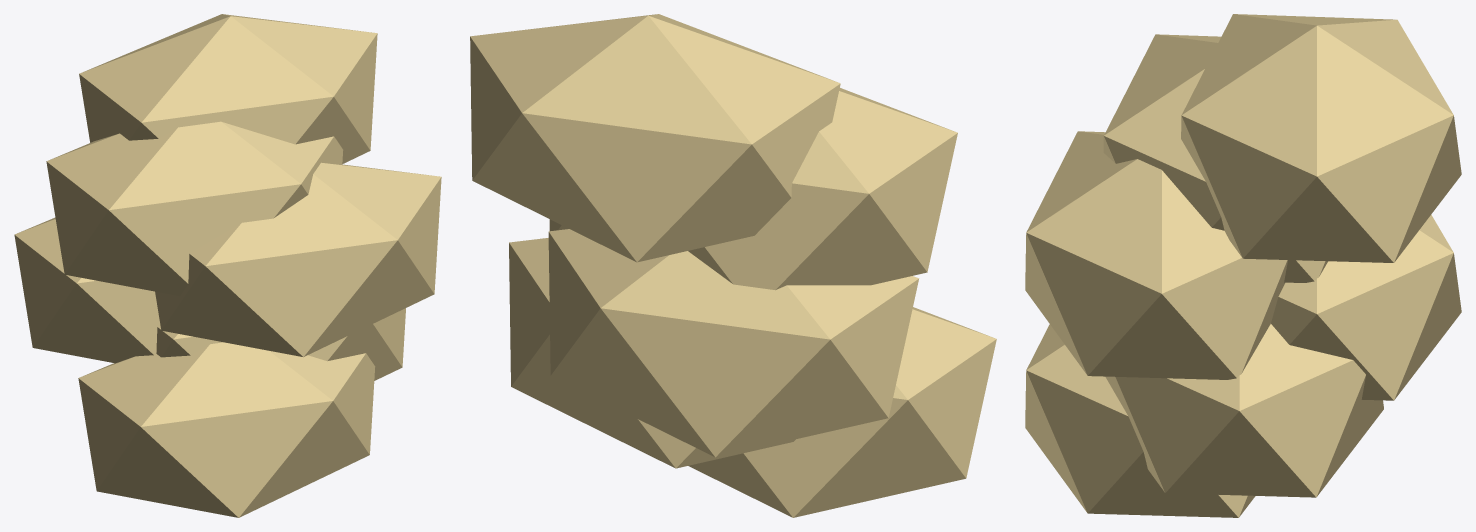
File: item_019_wild_grain_l.glb
3 views of the same model, side by side, from view 1: azimuth 30°, elevation 25°; view 2: azimuth 150°, elevation 25°; view 3: azimuth 270°, elevation 25° (orthographic). The views are drawn at different scales.
Parts seen in each view (by area): view 1: item_019_wild_grain_l; view 2: item_019_wild_grain_l; view 3: item_019_wild_grain_l.
Part boxes in pixels (x1,y1,x2,y2): item_019_wild_grain_l: (14, 14, 441, 517); item_019_wild_grain_l: (470, 14, 996, 517); item_019_wild_grain_l: (1025, 14, 1461, 517).
Size of the model in its own units: 0.3735 by 0.4411 by 0.3375.
